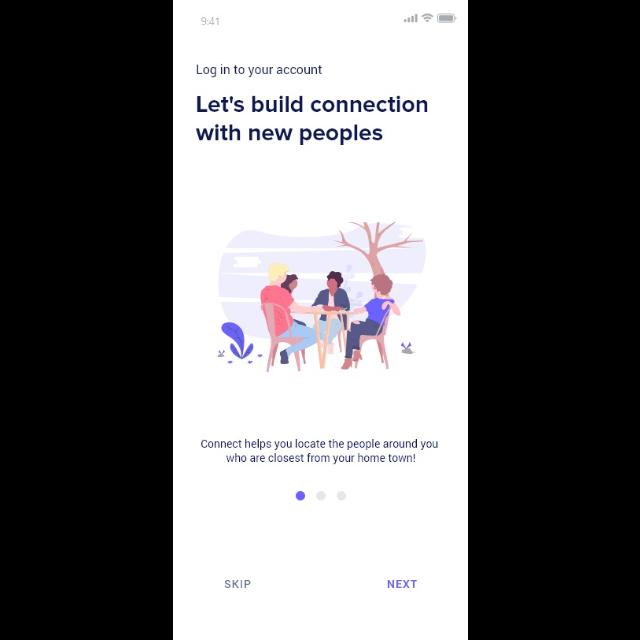image: (217, 223, 425, 373)
pageindicator: (296, 491, 346, 502)
text: (195, 96, 427, 146), (200, 439, 438, 465), (196, 64, 322, 78), (388, 580, 417, 588), (224, 580, 250, 588)
uppertaskbar: (200, 14, 456, 26)
